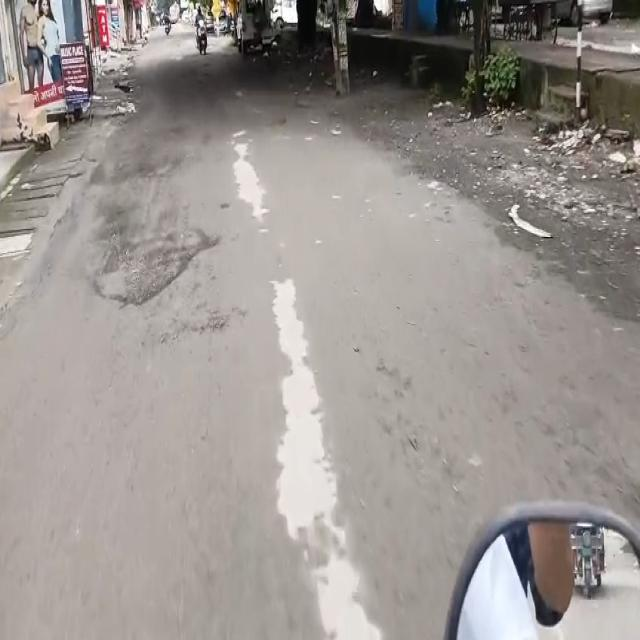road-pothole: (93, 195, 221, 303)
